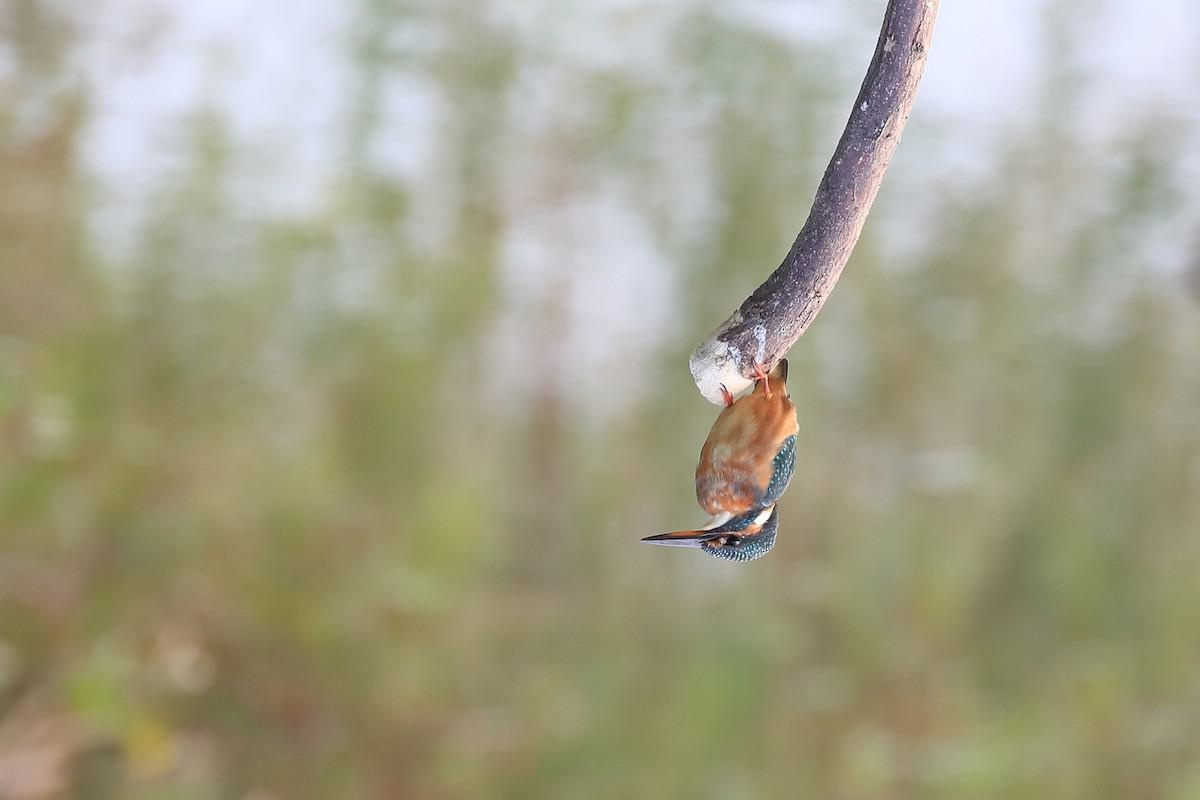kingfisher: (642, 352, 829, 575)
